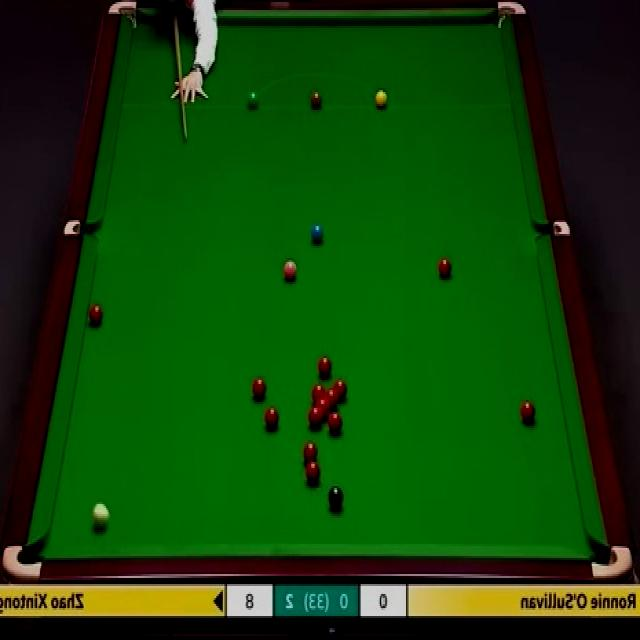black-ball: (327, 486, 344, 512)
blue-ball: (310, 222, 324, 245)
brown-ball: (310, 88, 322, 110)
green-ball: (247, 92, 260, 111)
pink-ball: (283, 260, 297, 281)
red-ball: (250, 375, 268, 403), (262, 406, 280, 432), (87, 302, 104, 328), (520, 398, 536, 425), (303, 440, 318, 466), (305, 461, 321, 485), (328, 411, 343, 436), (318, 356, 332, 380), (334, 378, 348, 402), (308, 406, 322, 429), (438, 257, 452, 278), (325, 389, 338, 408), (312, 384, 324, 404), (316, 399, 329, 417)
white-ball: (91, 502, 110, 533)
yellow-ball: (375, 90, 388, 111)
